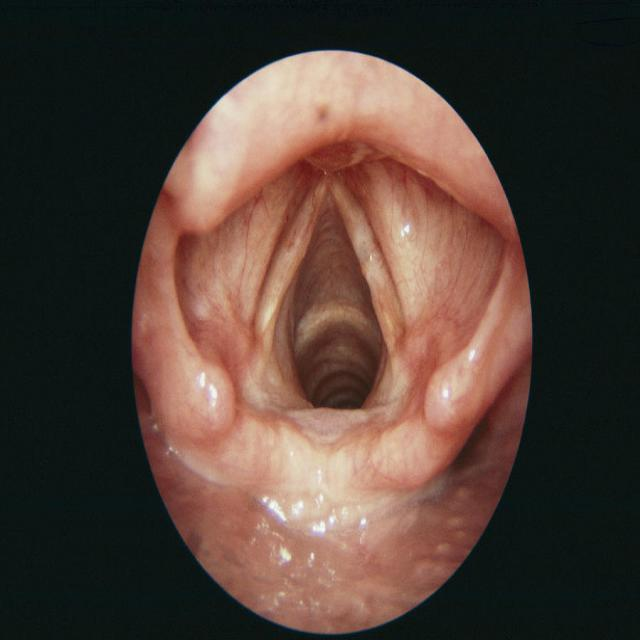arytenoid cartilagerotation: (132, 322, 528, 514)
epiglottisrotation: (164, 49, 515, 248)
larynxrotation: (253, 175, 406, 414)
